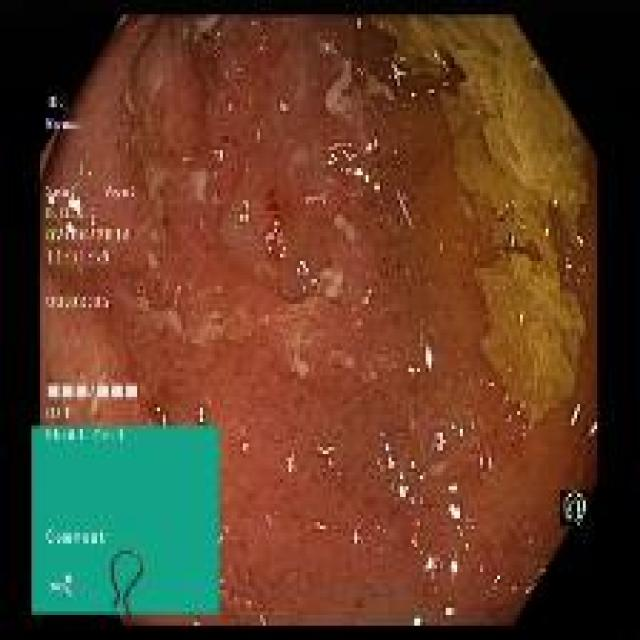ulcerative-colitis: (40, 17, 598, 623)
